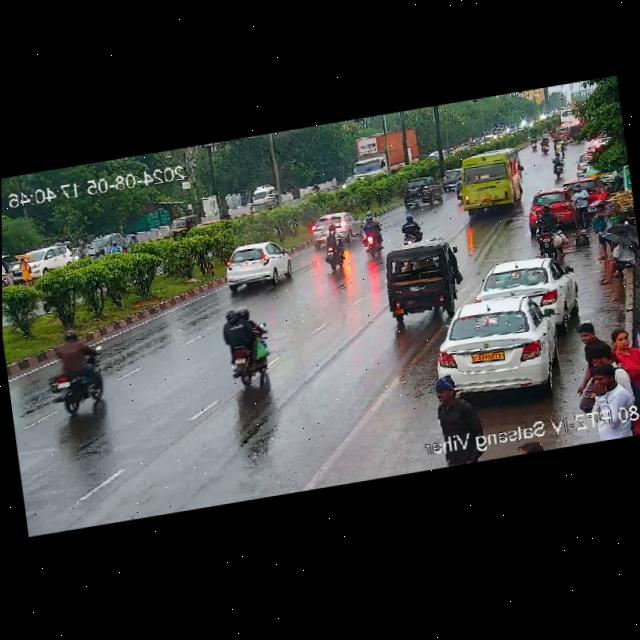bus: (457, 145, 526, 216), (555, 106, 584, 133), (247, 181, 281, 202)
car: (430, 288, 567, 402), (379, 235, 464, 326), (477, 251, 575, 322), (222, 236, 296, 288), (10, 241, 72, 285), (526, 186, 577, 230), (307, 211, 361, 245), (395, 177, 439, 211), (84, 233, 124, 258), (171, 215, 203, 242), (438, 168, 460, 191), (248, 199, 276, 217)
motorcycle: (40, 326, 111, 417), (210, 304, 275, 387), (530, 201, 568, 247), (316, 220, 344, 274), (358, 210, 384, 262), (396, 211, 430, 245), (549, 151, 568, 178), (537, 136, 550, 154)
person: (575, 312, 640, 444), (427, 373, 477, 469), (570, 186, 590, 233)
truck: (349, 126, 422, 184)
